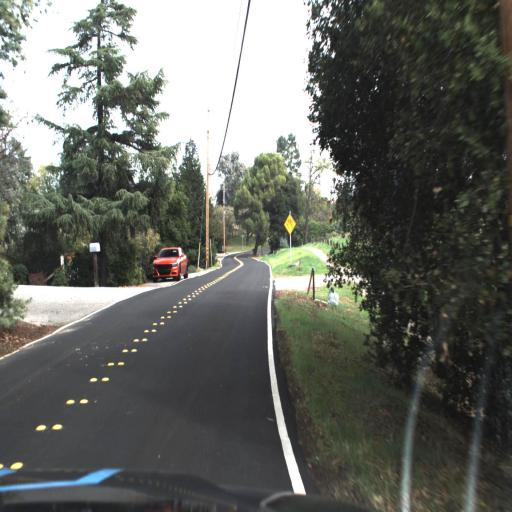car: (148, 242, 190, 284)
